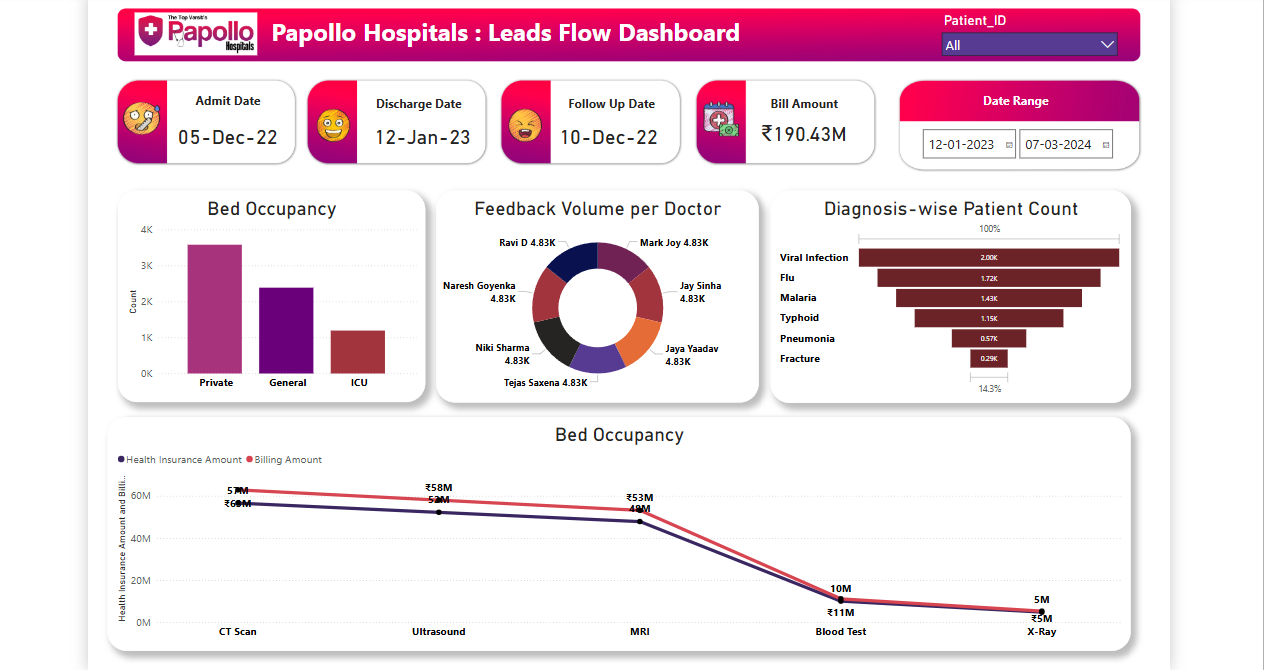

The page's visual inventory and layout, read from the dashboard file:
{"tool":"powerbi","page":{"name":"Page 2","canvas":[1680,1050],"ordinal":0},"visuals":[{"type":"textbox","box":[280,27.1,755.7,74.3],"z":0},{"type":"image","box":[2636.7,100,623.3,150],"z":1000},{"type":"slicer","fields":{"Values":["Sheet1.Patient_ID"]},"box":[2400,373.3,793.3,420],"z":2000},{"type":"card","fields":{"Values":["Min(Sheet1.Admit_Date)"]},"box":[437.6,198.8,162.9,42.8],"z":3000},{"type":"card","fields":{"Values":["Min(Sheet1.Discharge_Date)"]},"box":[129.8,198.8,172.6,42.8],"z":4000},{"type":"card","fields":{"Values":["Min(Sheet1.Followup Date)"]},"box":[724.3,198.6,167.1,42.9],"z":5000},{"type":"textbox","box":[152.9,145.7,127.1,57.1],"z":6000},{"type":"textbox","box":[437.1,151.4,151.4,37.1],"z":7000},{"type":"textbox","box":[732.9,151.4,158.6,37.1],"z":8000},{"type":"textbox","box":[1035.7,151.4,151.4,37.1],"z":9000},{"type":"card","fields":{"Values":["Sum(Sheet1.Billing Amount)"]},"box":[1031.4,194.3,158.6,42.9],"z":10000},{"type":"image","box":[50,157.1,68.6,74.3],"z":11000},{"type":"image","box":[348.6,172.9,62.9,62.9],"z":12000},{"type":"image","box":[640,171.4,77.1,62.9],"z":13000},{"type":"image","box":[951.4,158.6,65.7,71.4],"z":14000},{"type":"columnChart","title":"Bed Occupancy","fields":{"Category":["Sheet1.Bed_Occupancy"],"Y":["CountNonNull(Sheet1.Bed_Occupancy)"]},"box":[47.1,305.7,477.1,328.6],"z":15000},{"type":"donutChart","title":"Feedback Volume per Doctor","fields":{"Category":["Sheet1.Doctor"],"Y":["Sum(Sheet1.Feedback)"]},"box":[540.2,305.2,501,329.5],"z":16000},{"type":"funnel","title":"Diagnosis-wise Patient Count","fields":{"Category":["Sheet1.Diagnosis"],"Y":["CountNonNull(Sheet1.Diagnosis)"]},"box":[1060,305.7,560,330],"z":17000},{"type":"image","box":[30,24.3,274.3,77.1],"z":18000},{"type":"lineChart","title":"Bed Occupancy","fields":{"Y":["Sum(Sheet1.Health Insurance Amount)","Sum(Sheet1.Billing Amount)"],"Category":["Sheet1.Test"]},"box":[31.1,656.3,1589.5,363.3],"z":19000},{"type":"slicer","fields":{"Values":["Sheet1.Admit_Date"]},"box":[1284.3,201.2,360.6,68.9],"z":20000},{"type":"slicer","fields":{"Values":["Sheet1.Patient_ID"]},"box":[1317.1,24.3,292.9,82.9],"z":21000},{"type":"textbox","box":[1365.7,145.7,151.4,37.1],"z":22000}]}

Visuals, with their boxes on the page's 1680x1050 design canvas (x1, y1, x2, y2). These are canvas units, not pixel positions in the 1264x670 screenshot, which may show the page scaled, cropped or inside an application window:
textbox: {"left": 280, "top": 27, "right": 1036, "bottom": 101}
image: {"left": 2637, "top": 100, "right": 3260, "bottom": 250}
slicer - Sheet1.Patient_ID: {"left": 2400, "top": 373, "right": 3193, "bottom": 793}
card - Min(Sheet1.Admit_Date): {"left": 438, "top": 199, "right": 600, "bottom": 242}
card - Min(Sheet1.Discharge_Date): {"left": 130, "top": 199, "right": 302, "bottom": 242}
card - Min(Sheet1.Followup Date): {"left": 724, "top": 199, "right": 891, "bottom": 242}
textbox: {"left": 153, "top": 146, "right": 280, "bottom": 203}
textbox: {"left": 437, "top": 151, "right": 588, "bottom": 188}
textbox: {"left": 733, "top": 151, "right": 892, "bottom": 188}
textbox: {"left": 1036, "top": 151, "right": 1187, "bottom": 188}
card - Sum(Sheet1.Billing Amount): {"left": 1031, "top": 194, "right": 1190, "bottom": 237}
image: {"left": 50, "top": 157, "right": 119, "bottom": 231}
image: {"left": 349, "top": 173, "right": 412, "bottom": 236}
image: {"left": 640, "top": 171, "right": 717, "bottom": 234}
image: {"left": 951, "top": 159, "right": 1017, "bottom": 230}
"Bed Occupancy" columnChart: {"left": 47, "top": 306, "right": 524, "bottom": 634}
"Feedback Volume per Doctor" donutChart: {"left": 540, "top": 305, "right": 1041, "bottom": 635}
"Diagnosis-wise Patient Count" funnel: {"left": 1060, "top": 306, "right": 1620, "bottom": 636}
image: {"left": 30, "top": 24, "right": 304, "bottom": 101}
"Bed Occupancy" lineChart: {"left": 31, "top": 656, "right": 1621, "bottom": 1020}
slicer - Sheet1.Admit_Date: {"left": 1284, "top": 201, "right": 1645, "bottom": 270}
slicer - Sheet1.Patient_ID: {"left": 1317, "top": 24, "right": 1610, "bottom": 107}
textbox: {"left": 1366, "top": 146, "right": 1517, "bottom": 183}
